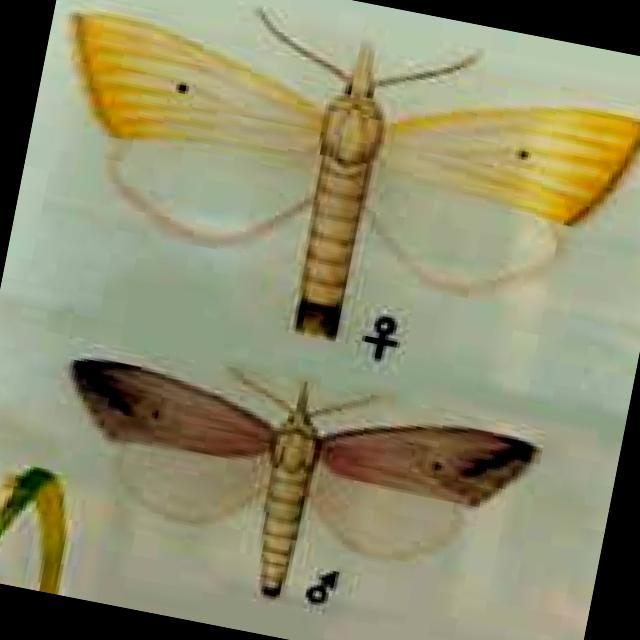stem borer: (71, 9, 639, 340), (71, 359, 538, 597)
